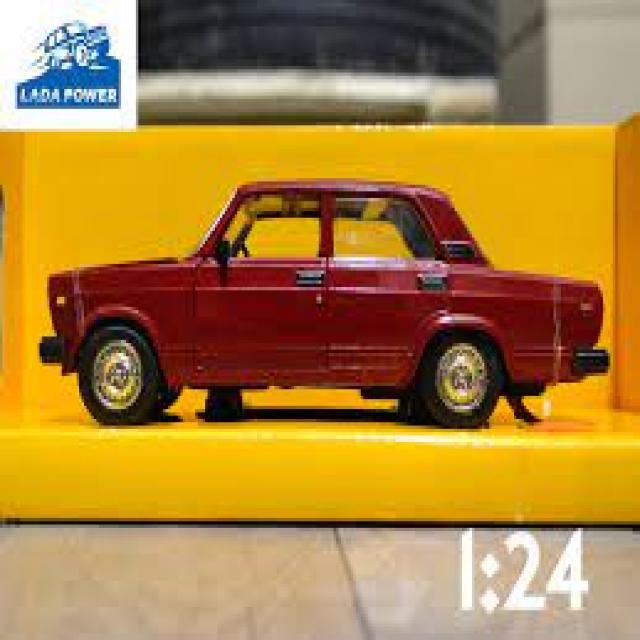Car: (37, 175, 610, 429)
